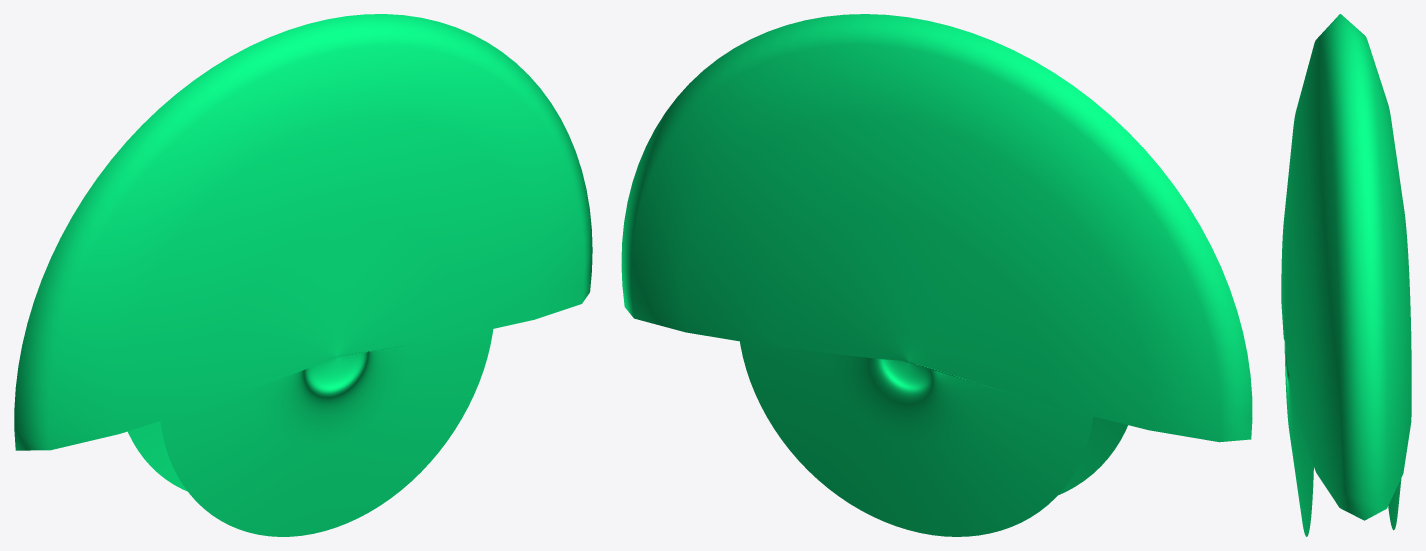
File: uuon-helmet.glb
3 views of the same model, side by side, from view 1: azimuth 30°, elevation 25°; view 2: azimuth 150°, elevation 25°; view 3: azimuth 270°, elevation 25° (orthographic). The views are drawn at different scales.
Visible parts, largest first — view 1: torus_solid; view 2: torus_solid; view 3: torus_solid.
Part boxes in pixels (box(x1,y1,x2,y2)): torus_solid: box(14, 14, 592, 536); torus_solid: box(621, 14, 1252, 536); torus_solid: box(1281, 14, 1411, 536).
Bounding box in the file's own units: 3.56 × 2.78 × 0.6909.
